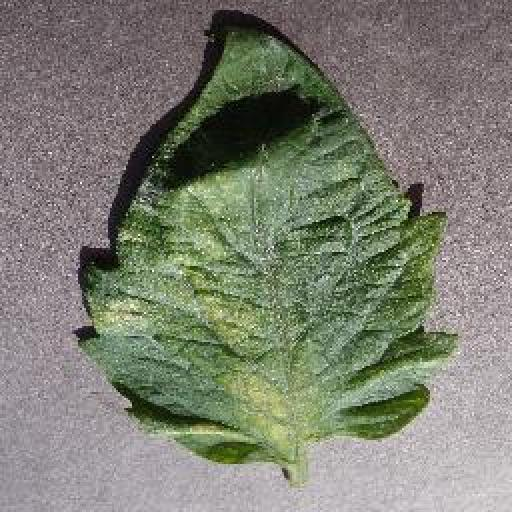disease_tomato: (73, 22, 459, 466)
